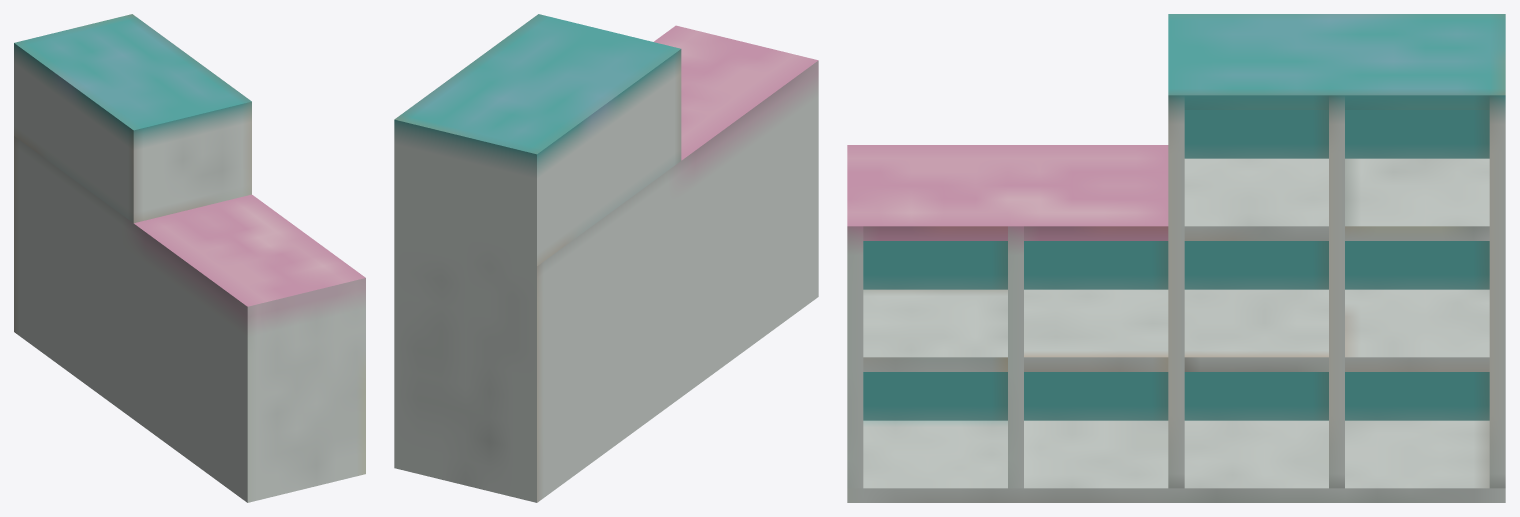
File: StorageShelf_00.obj
The picture shows the model from 3 angles, left to right: view 1: azimuth 30°, elevation 25°; view 2: azimuth 150°, elevation 25°; view 3: azimuth 270°, elevation 25°; orthographic projection. The views are drawn at different scales.
Visible parts, largest first — view 1: StorageShelf_00; view 2: StorageShelf_00; view 3: StorageShelf_00.
Boxes of the visible parts, <box> form: StorageShelf_00: <box>14,14,365,502</box>; StorageShelf_00: <box>394,14,818,502</box>; StorageShelf_00: <box>847,14,1505,502</box>.
Size of the model in its own units: 0.6 by 1.4 by 2.05.
